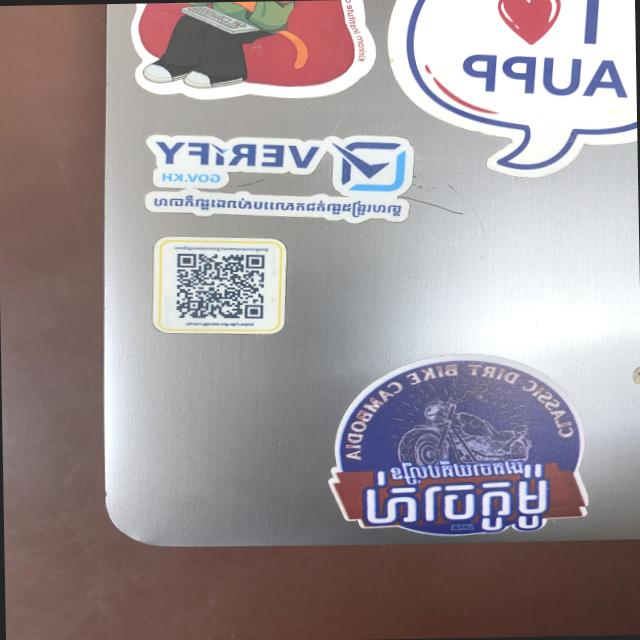649: (445, 521, 475, 531)
Yolov11_80vkh: (358, 460, 557, 543), (142, 192, 418, 225), (384, 456, 528, 486)
